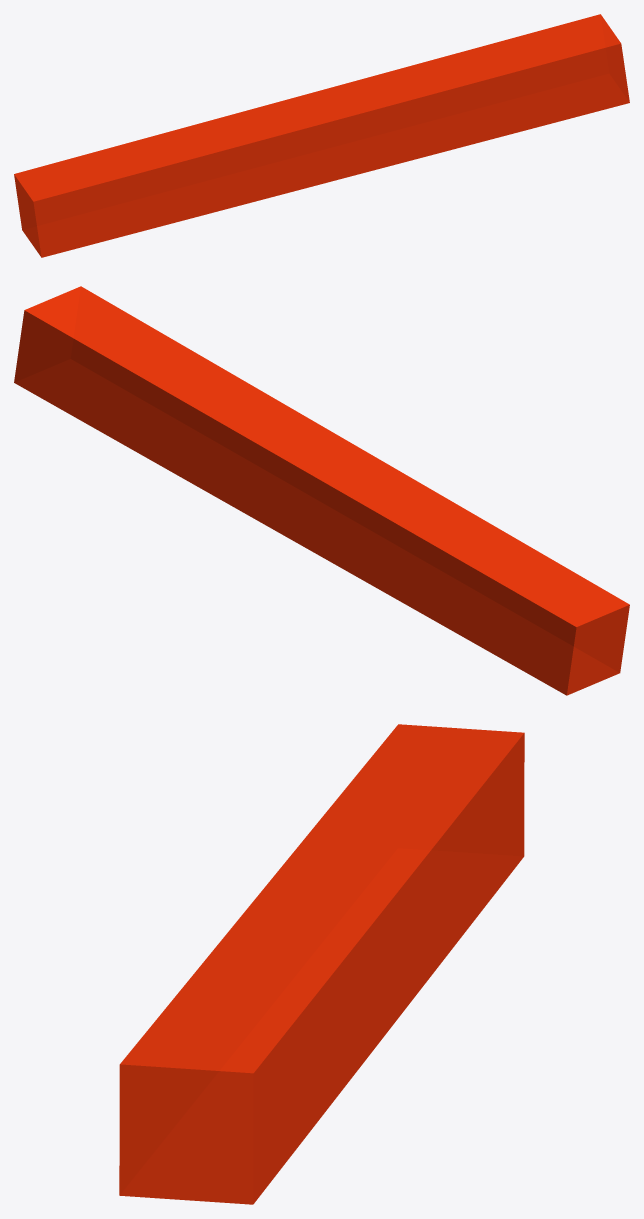
Rendered from Event_420107950_EErechit_39.fbx.
3 renders of one model, top to bottom at view 1: azimuth 30°, elevation 25°; view 2: azimuth 150°, elevation 25°; view 3: azimuth 270°, elevation 25°, orthographic. The views are drawn at different scales.
Parts seen in each view (by area): view 1: Model; view 2: Model; view 3: Model.
Boxes of the visible parts, left/top/right/bottom form: Model: left=14, top=14, right=629, bottom=257; Model: left=14, top=286, right=629, bottom=695; Model: left=119, top=724, right=524, bottom=1204.
Size of the model in its own units: 0.6991 by 0.1765 by 0.2273.
